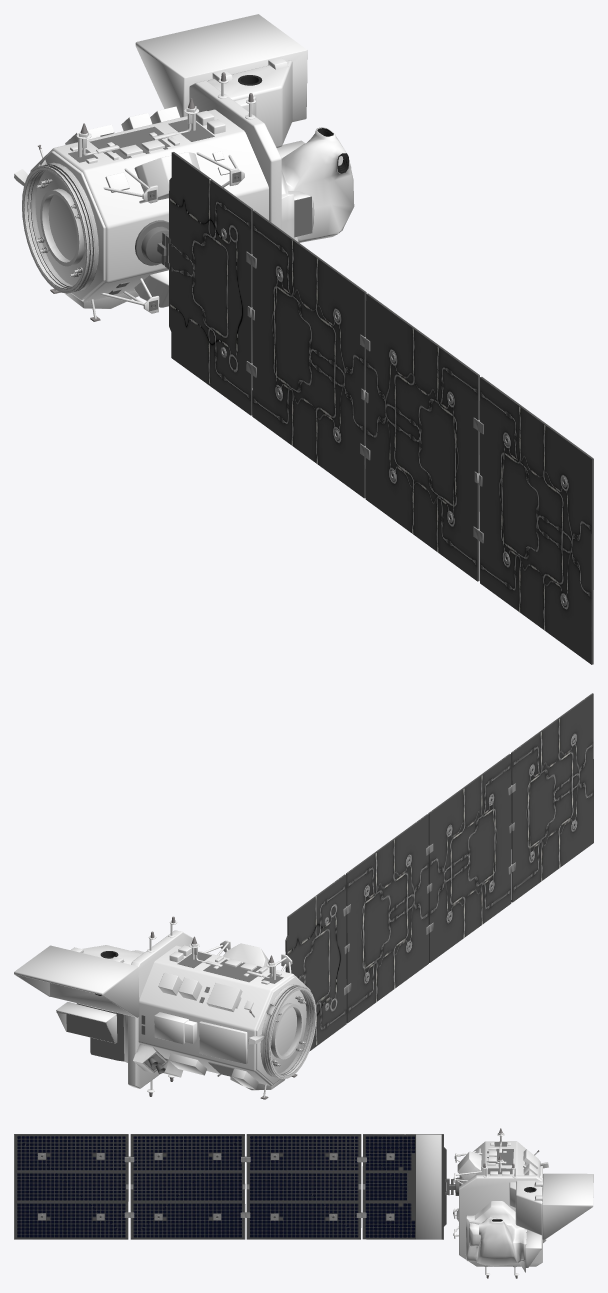
The model's file is landsat9.glb.
The picture shows the model from 3 angles, top to bottom: view 1: azimuth 30°, elevation 25°; view 2: azimuth 150°, elevation 25°; view 3: azimuth 270°, elevation 25°; orthographic projection. The views are drawn at different scales.
Visible parts, largest first — view 1: solarPanels, BUS, OLI, BUS_instruments, baked_instruments, BUS_plates, OLI_plate, solarPanelHinges; view 2: solarPanels, BUS, BUS_instruments, OLI, baked_instruments, BUS_plates, solarPanelHinges; view 3: solarPanels, OLI, BUS, solarPanels_foil, BUS_instruments, solarPanelHinges, BUS_plates, OLI_plate.
Boxes of the visible parts, <box> form: solarPanels: <box>169,152,593,664</box>; BUS: <box>30,79,281,318</box>; OLI: <box>135,14,354,242</box>; BUS_instruments: <box>38,72,253,321</box>; baked_instruments: <box>14,159,98,293</box>; BUS_plates: <box>68,119,241,311</box>; OLI_plate: <box>135,196,312,269</box>; solarPanelHinges: <box>220,228,567,605</box>; solarPanels: <box>285,693,593,1051</box>; BUS: <box>128,921,310,1097</box>; BUS_instruments: <box>149,916,297,1099</box>; OLI: <box>14,945,144,1062</box>; baked_instruments: <box>133,984,316,1079</box>; BUS_plates: <box>56,952,283,1076</box>; solarPanelHinges: <box>324,735,576,1010</box>; solarPanels: <box>14,1134,446,1239</box>; OLI: <box>465,1173,593,1272</box>; BUS: <box>459,1141,542,1275</box>; solarPanels_foil: <box>416,1134,441,1239</box>; BUS_instruments: <box>454,1128,542,1278</box>; solarPanelHinges: <box>38,1153,394,1220</box>; BUS_plates: <box>453,1142,541,1249</box>; OLI_plate: <box>445,1175,469,1245</box>.
Bounding box in the file's own units: 5.25 × 3.84 × 17.47.
10 materials, 2 textured.
